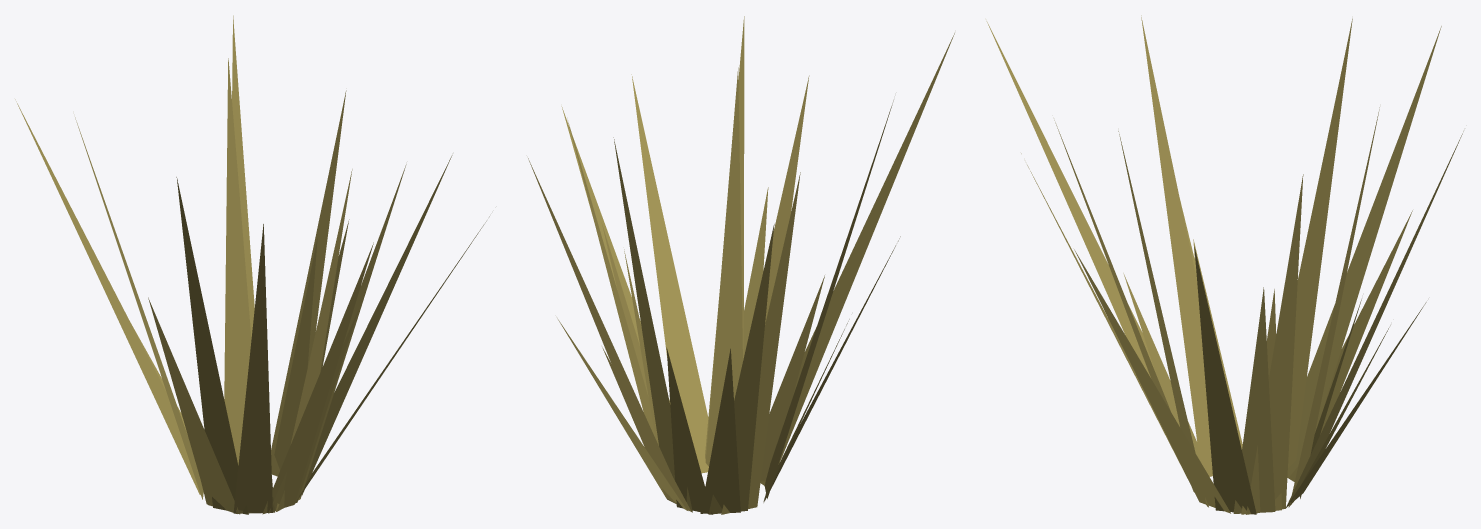
The model's file is grass_tuft.glb.
3 renders of one model, left to right at view 1: azimuth 30°, elevation 25°; view 2: azimuth 150°, elevation 25°; view 3: azimuth 270°, elevation 25°, orthographic. The views are drawn at different scales.
Parts seen in each view (by area): view 1: grass_tuft; view 2: grass_tuft; view 3: grass_tuft.
Boxes of the visible parts, <box> form: grass_tuft: <box>15,15,489,514</box>; grass_tuft: <box>528,16,954,514</box>; grass_tuft: <box>986,15,1463,514</box>.
Bounding box in the file's own units: 0.4734 × 0.5431 × 0.5694.
